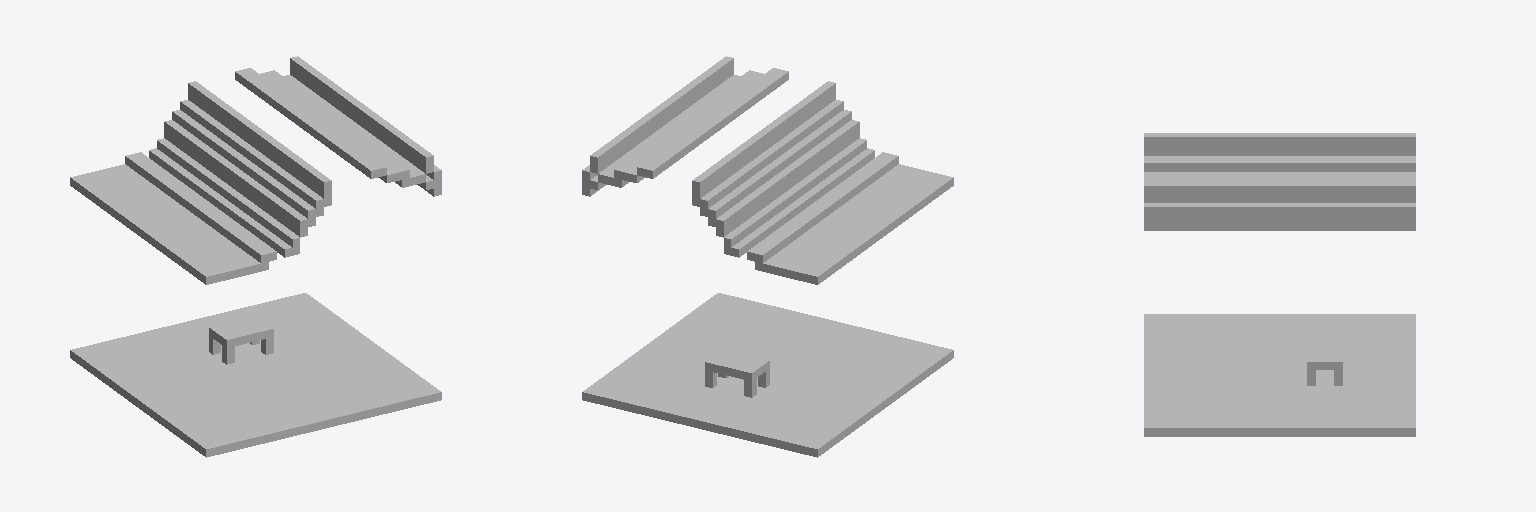
Rendered from table.obj.
The picture shows the model from 3 angles: view 1: azimuth 30°, elevation 25°; view 2: azimuth 150°, elevation 25°; view 3: azimuth 270°, elevation 25°; orthographic projection.
Size of the model in its own units: 30 by 30 by 30.